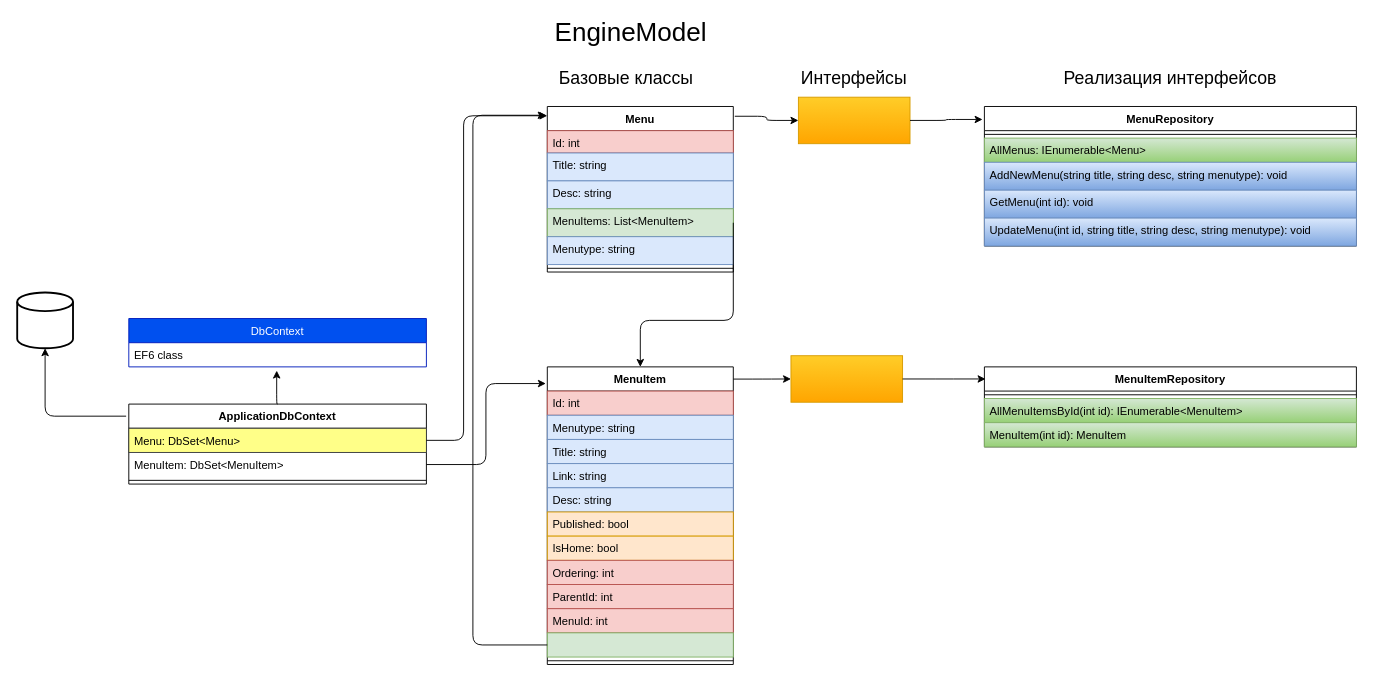
Some shapes in this 1373 by 681 pixel diagram are drawn without their labels. Each missing label, with the centre of its shape:
"Engine" belongs at point (44, 320).
"IMenu" belongs at point (853, 120).
"IMenuItem" belongs at point (846, 378).
"Menu: virtual Menu" belongs at point (639, 644).
